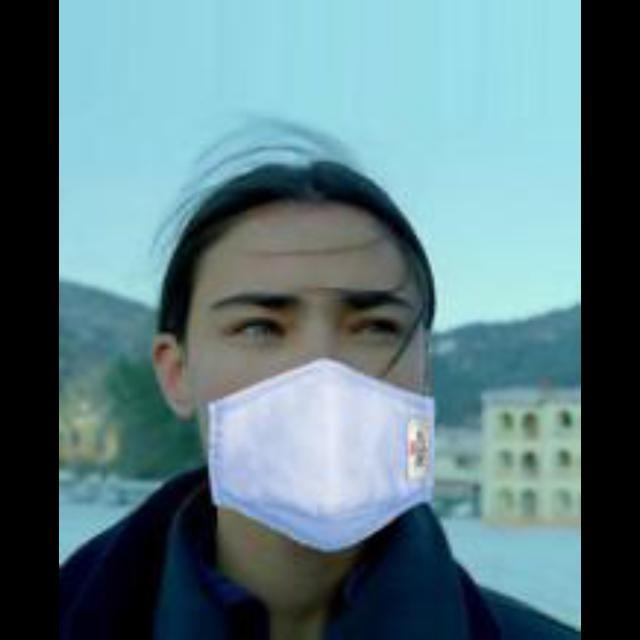suspicion: (152, 152, 488, 554)
